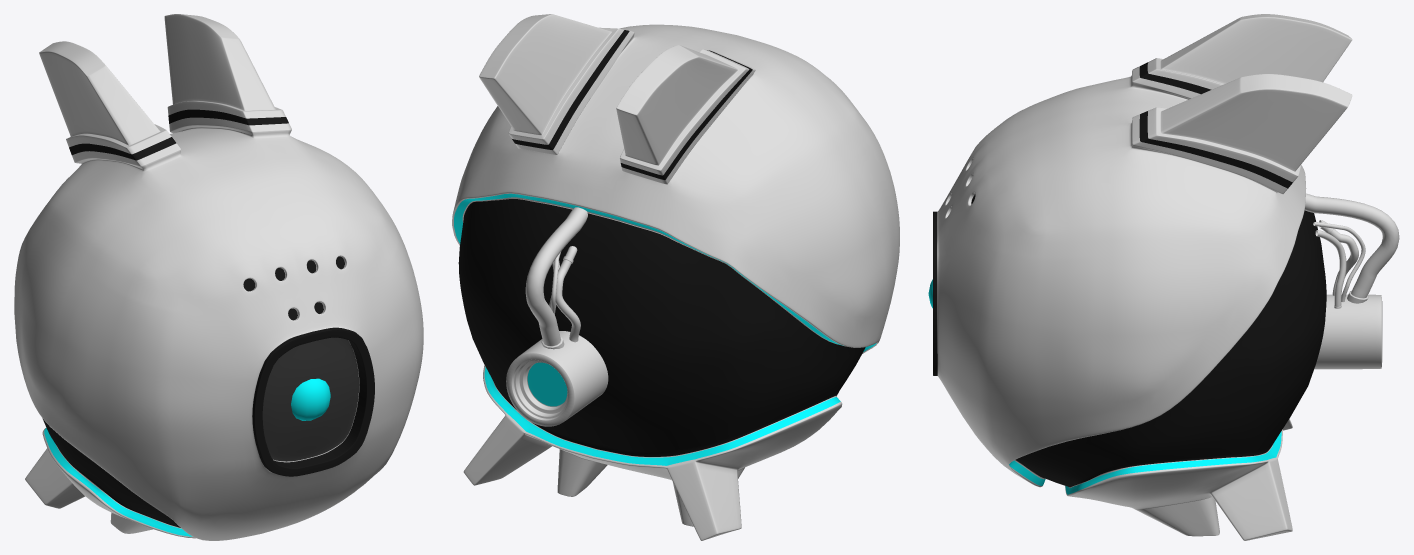
File: Unity_Gametopia_Char.fbx
3 views of the same model, side by side, from view 1: azimuth 30°, elevation 25°; view 2: azimuth 150°, elevation 25°; view 3: azimuth 270°, elevation 25° (orthographic). The views are drawn at different scales.
Visible parts, largest first — view 1: Body, Eye; view 2: Body, Motor; view 3: Body, Motor.
Part boxes in pixels (x1,y1,x2,y2): Body: [14, 14, 423, 540]; Eye: [291, 378, 330, 420]; Body: [452, 14, 899, 540]; Motor: [506, 207, 608, 426]; Body: [933, 14, 1352, 540]; Motor: [1304, 193, 1399, 369].
Size of the model in its own units: 100 by 121 by 112.
